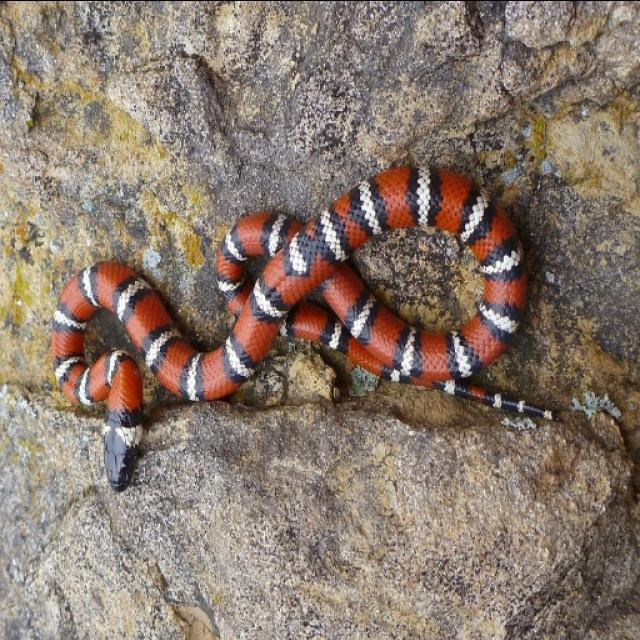snake: (42, 142, 550, 496)
